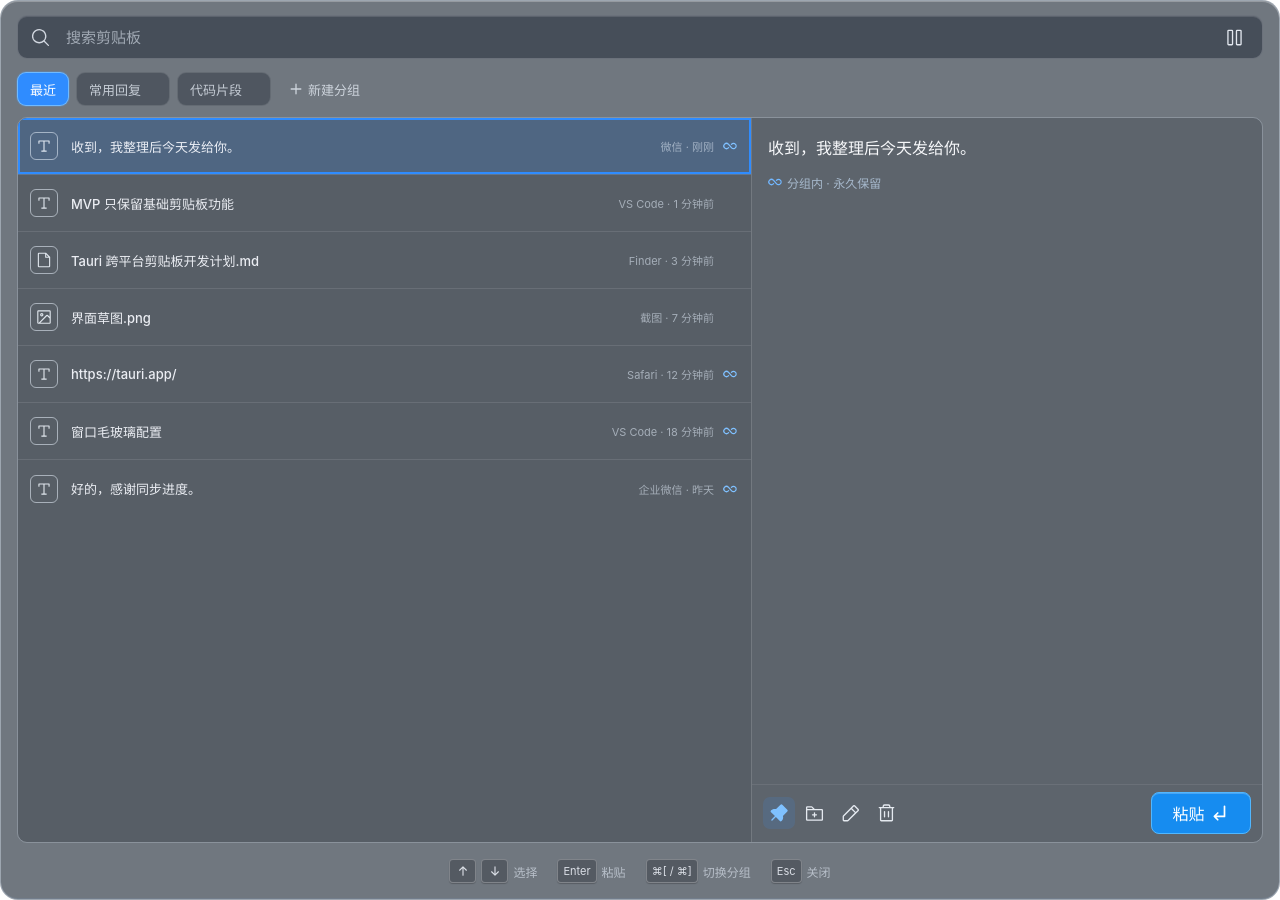
Test: App › renames a clipboard item without changing its content
The image size is (1280, 900).
expect the option "收到，我整理后今天发给你。 微信 · 刚刚" is shown: met, box [18,118,751,175]
Click the button named "修改标题": (851,813) [835,797,867,829]
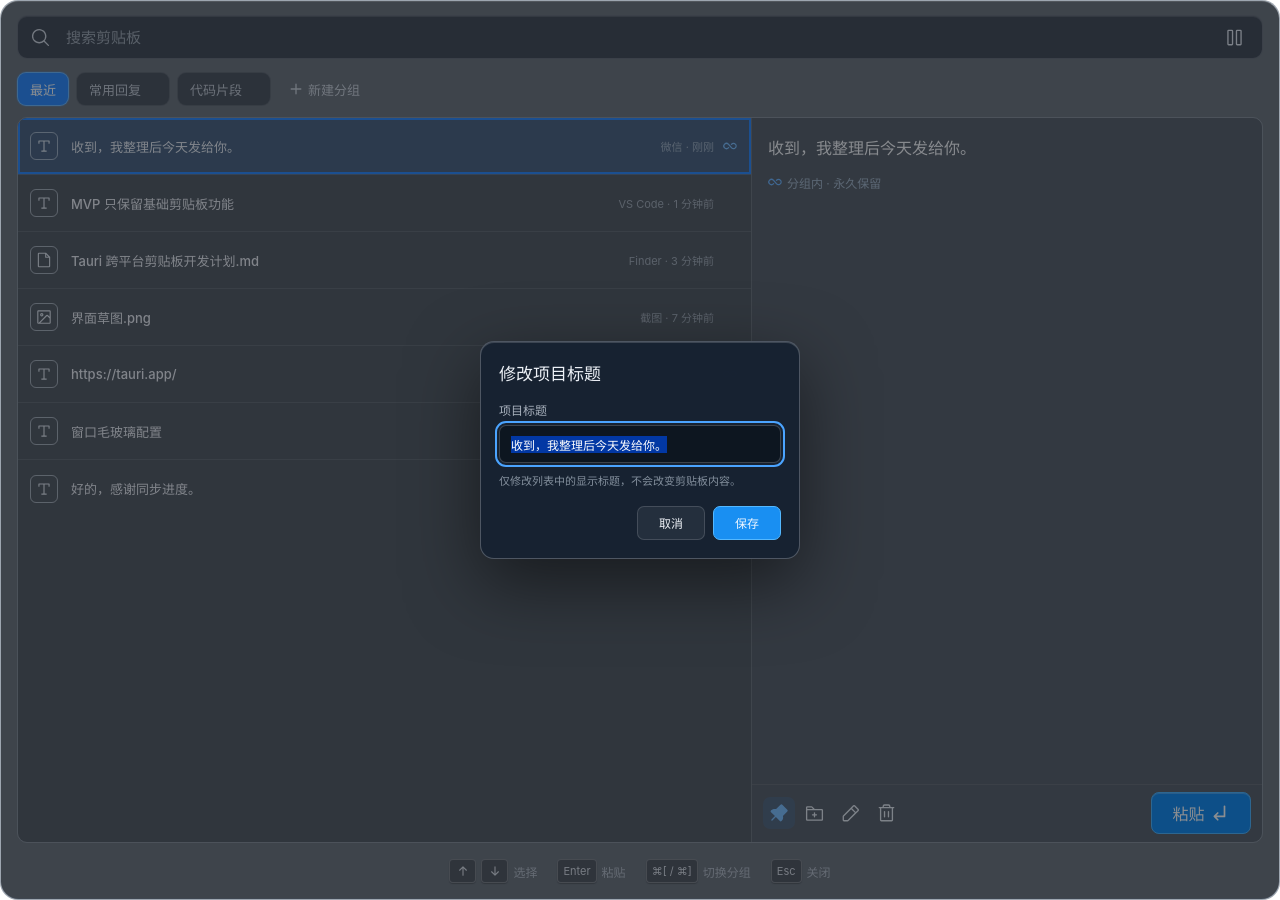
Replace the text in the field labelled "项目标题" with "今日待回复": (640,444) [499,425,781,463]
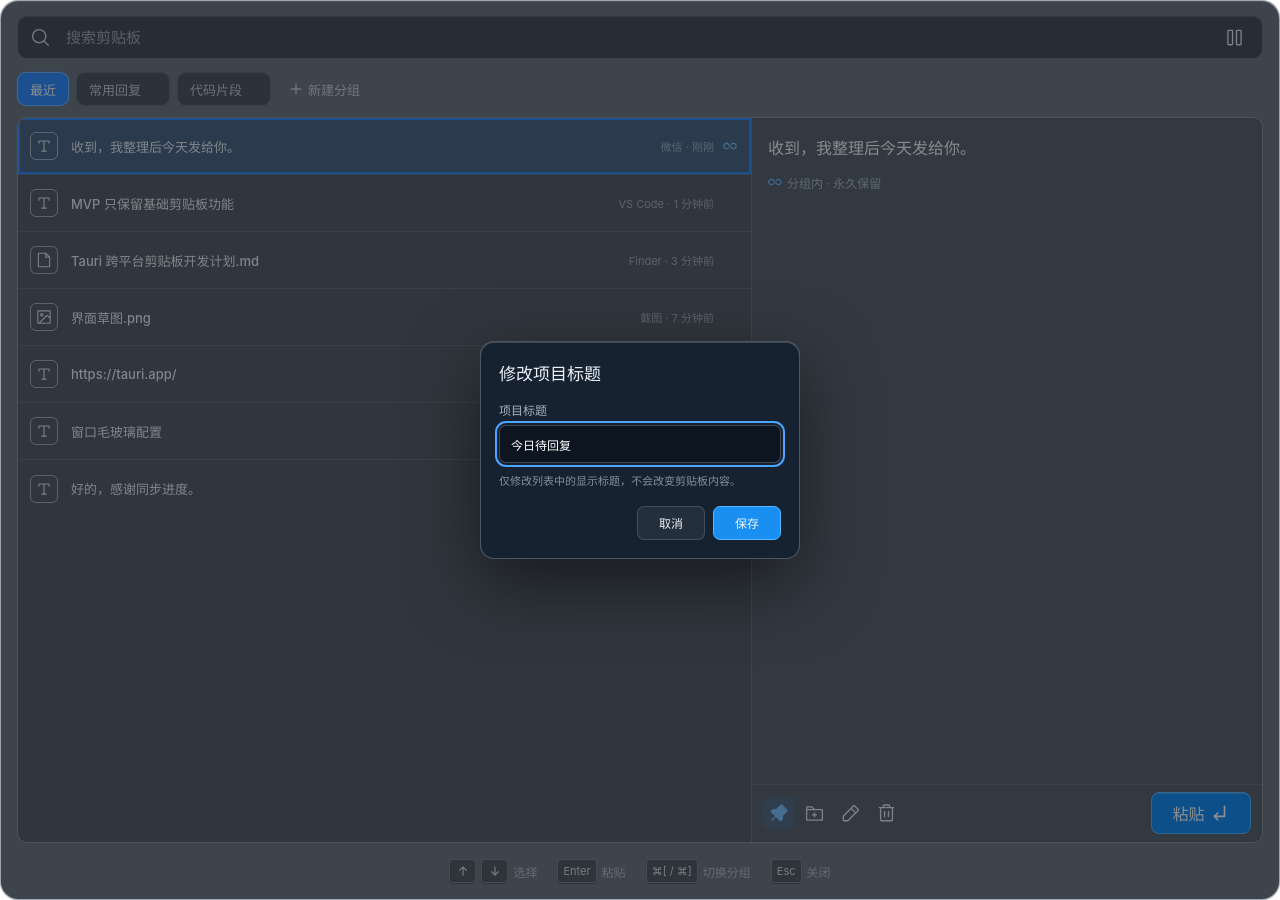
Click the button "保存": (747,523) [713,506,781,540]
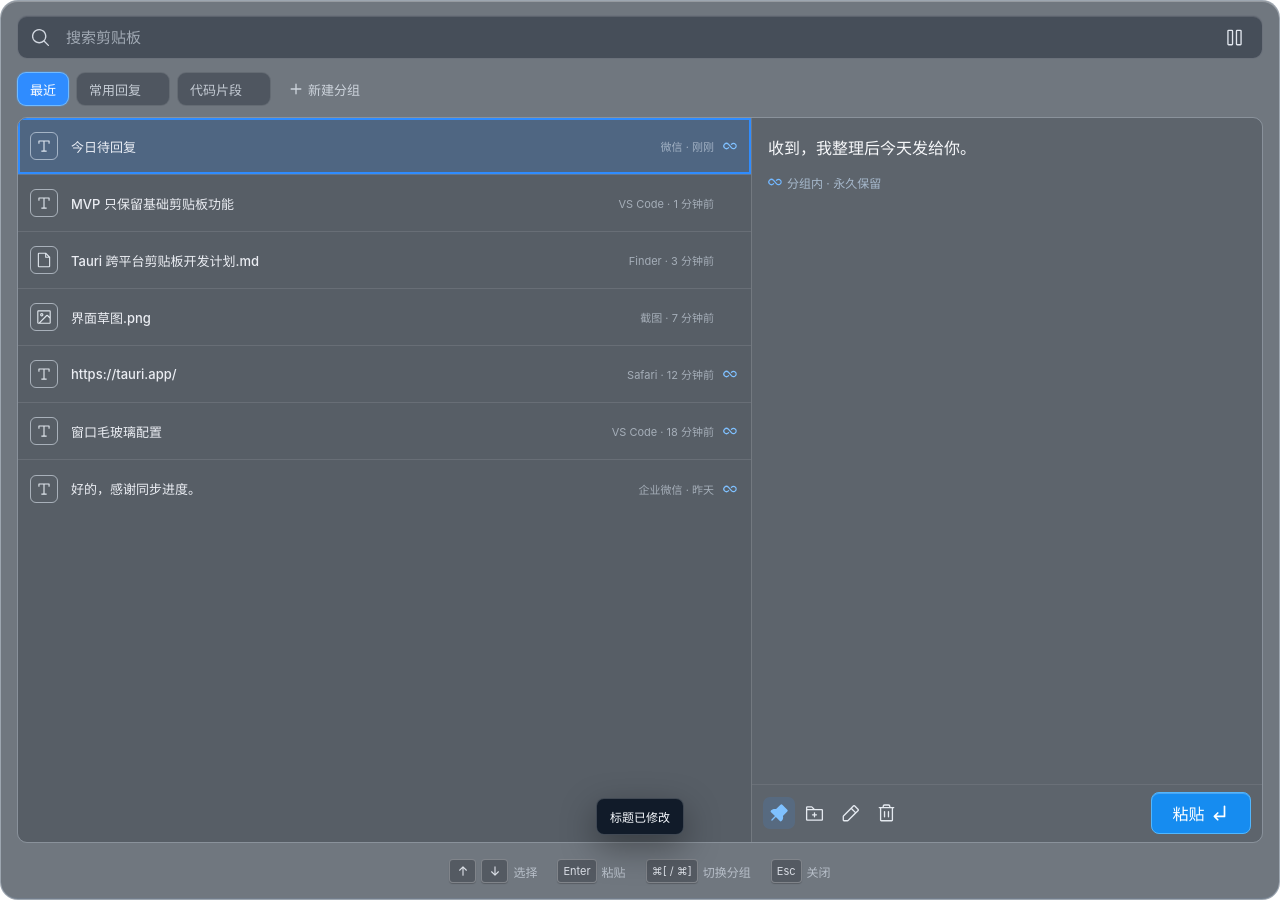
expect the text "收到，我整理后今天发给你。" is shown: met, box [768,136,976,161]
expect the option "今日待回复 微信 · 刚刚" is shown: met, box [18,118,751,175]
